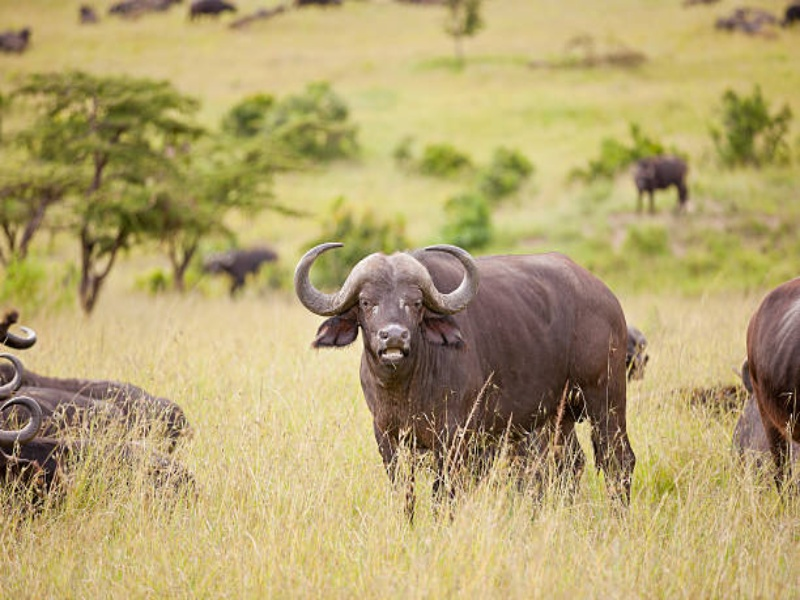buffalo: (283, 228, 657, 525)
